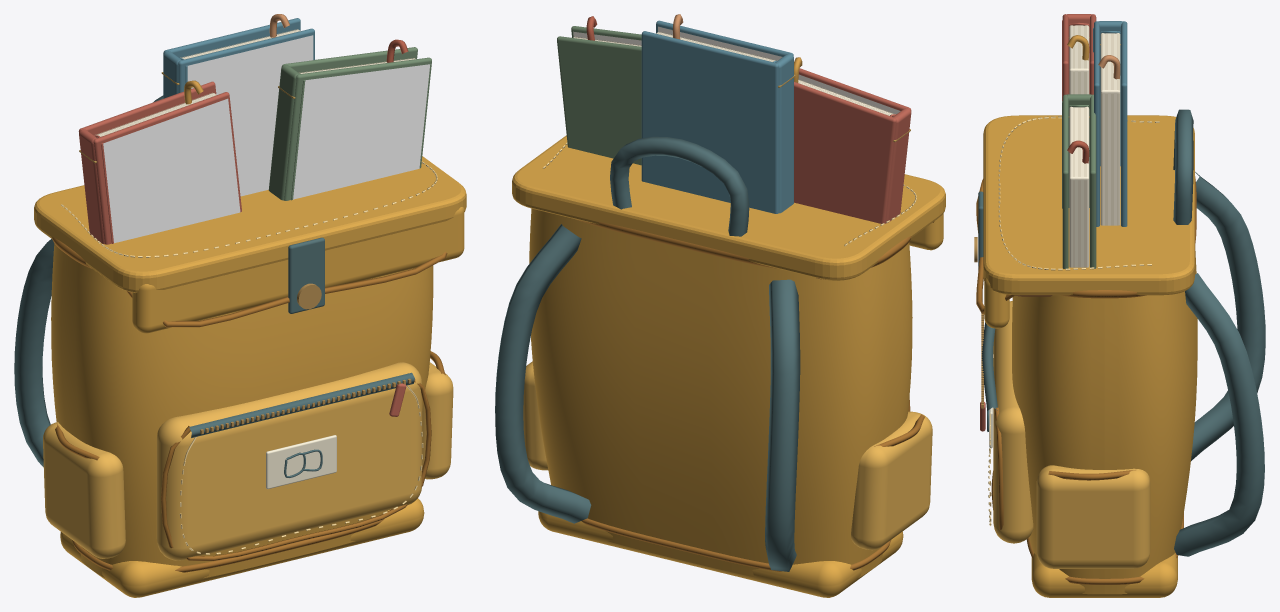
Rendered from schoolbag-v3.glb.
3 renders of one model, left to right at view 1: azimuth 30°, elevation 25°; view 2: azimuth 150°, elevation 25°; view 3: azimuth 270°, elevation 25°, orthographic. The views are drawn at different scales.
Visible parts, largest first — view 1: FabricBody, FrontPocket, FlapOuter, CoverArt_chinese, CoverArt_english, FlapApron, CoverArt_math, SidePocket-1, RearStrap-1, SoftBase, SidePocket1, FrontLabel (+16 smaller); view 2: FabricBody, FlapOuter, BackCover_1, BackCover_0, RearStrap1, BackCover_2, RearStrap-1, SidePocket-1, SoftBase, CarryHandle, Spine_1, BaseBinding (+8 smaller); view 3: FabricBody, FlapOuter, SidePocket1, RearStrap1, RearStrap-1, FrontPocket, Pages_1, Pages_2, SoftBase, CarryHandle, PageEdges_1, BackCover_1 (+19 smaller).
Boxes of the visible parts, box(x1,y1,x2,y2) form: FabricBody: box(51, 243, 433, 578); FrontPocket: box(156, 362, 422, 560); FlapOuter: box(34, 156, 466, 292); CoverArt_chinese: box(103, 98, 240, 243); CoverArt_english: box(293, 64, 430, 199); FlapApron: box(132, 207, 464, 333); CoverArt_math: box(187, 35, 313, 196); SidePocket-1: box(43, 422, 125, 558); RearStrap-1: box(14, 239, 54, 466); SoftBase: box(60, 498, 424, 597); SidePocket1: box(422, 362, 453, 479); FrontLabel: box(266, 435, 336, 489); FabricBody: box(529, 208, 912, 578); FlapOuter: box(512, 135, 945, 280); BackCover_1: box(641, 31, 778, 213); BackCover_0: box(794, 81, 896, 223); RearStrap1: box(495, 224, 591, 523); BackCover_2: box(557, 36, 641, 165); RearStrap-1: box(765, 279, 800, 571); SidePocket-1: box(851, 411, 932, 550); SoftBase: box(538, 511, 903, 597); CarryHandle: box(610, 136, 749, 236); Spine_1: box(775, 53, 793, 213); BaseBinding: box(581, 518, 891, 571); FabricBody: box(1012, 246, 1197, 594); FlapOuter: box(983, 115, 1194, 295); SidePocket1: box(1036, 465, 1150, 568); RearStrap1: box(1174, 273, 1264, 556); RearStrap-1: box(1191, 172, 1265, 460); FrontPocket: box(993, 301, 1033, 543); Pages_1: box(1100, 33, 1120, 225); Pages_2: box(1069, 106, 1089, 267); SoftBase: box(1031, 553, 1177, 597); CarryHandle: box(1173, 109, 1193, 224); PageEdges_1: box(1101, 34, 1119, 225); BackCover_1: box(1121, 21, 1127, 226).
Size of the model in its own units: 2.91 by 3.86 by 2.05.
